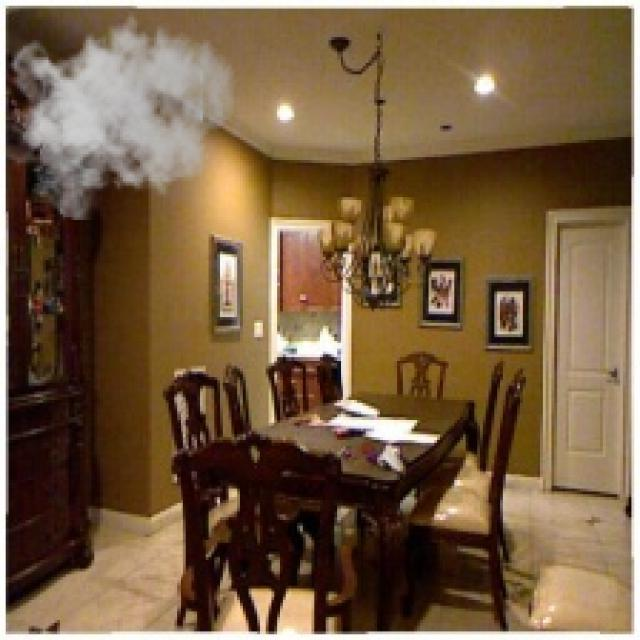Smoke: (6, 3, 238, 220)
